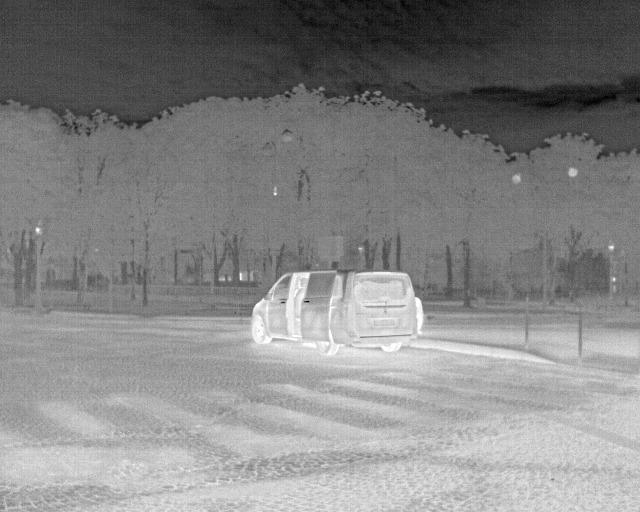car: (250, 270, 423, 356)
light: (611, 276, 618, 293), (34, 224, 43, 236)
sign: (315, 235, 344, 261)
